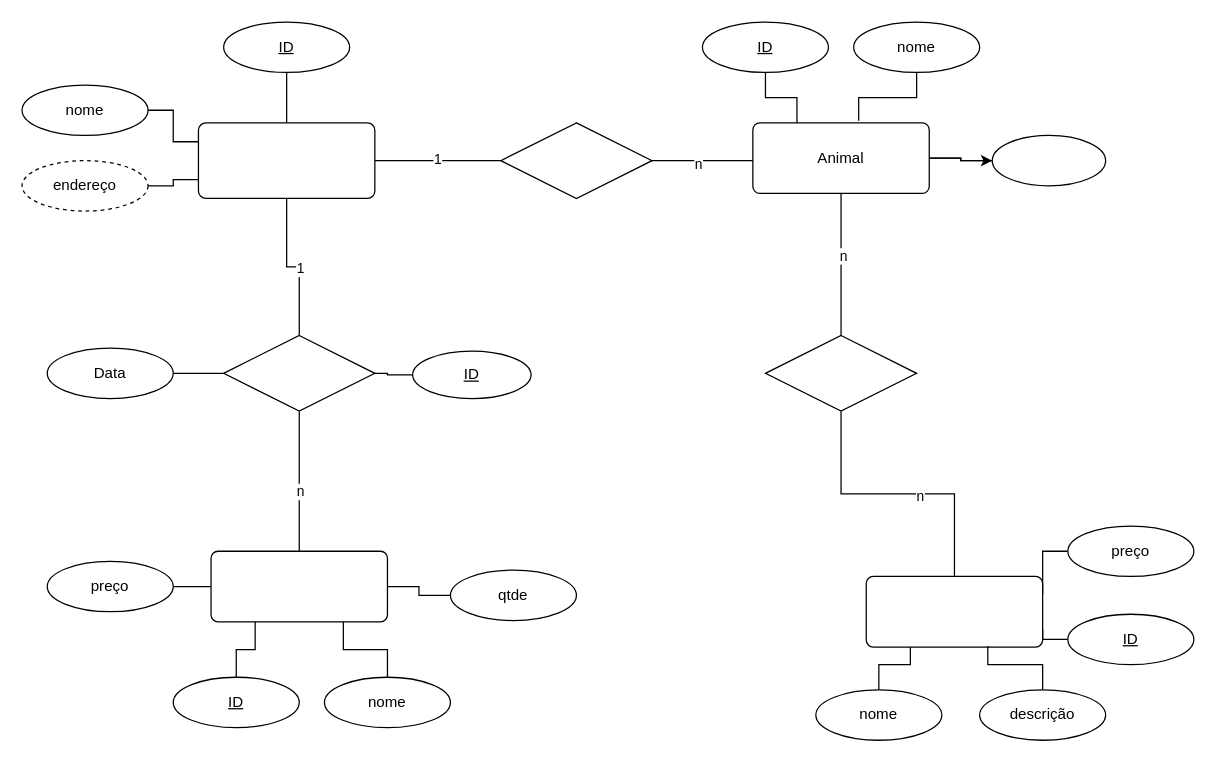
The diagram is 1216 pixels wide and 762 high, and some of its shapes have lost their labels. The shapes that lost their labels are listed below. From the top down, each one's centre as x and y in pixels, then its label:
[286,160]: Cliente
[576,160]: possui
[1048,160]: raça
[298,372]: venda
[840,372]: utiliza
[298,586]: Produto
[954,611]: Serviço
